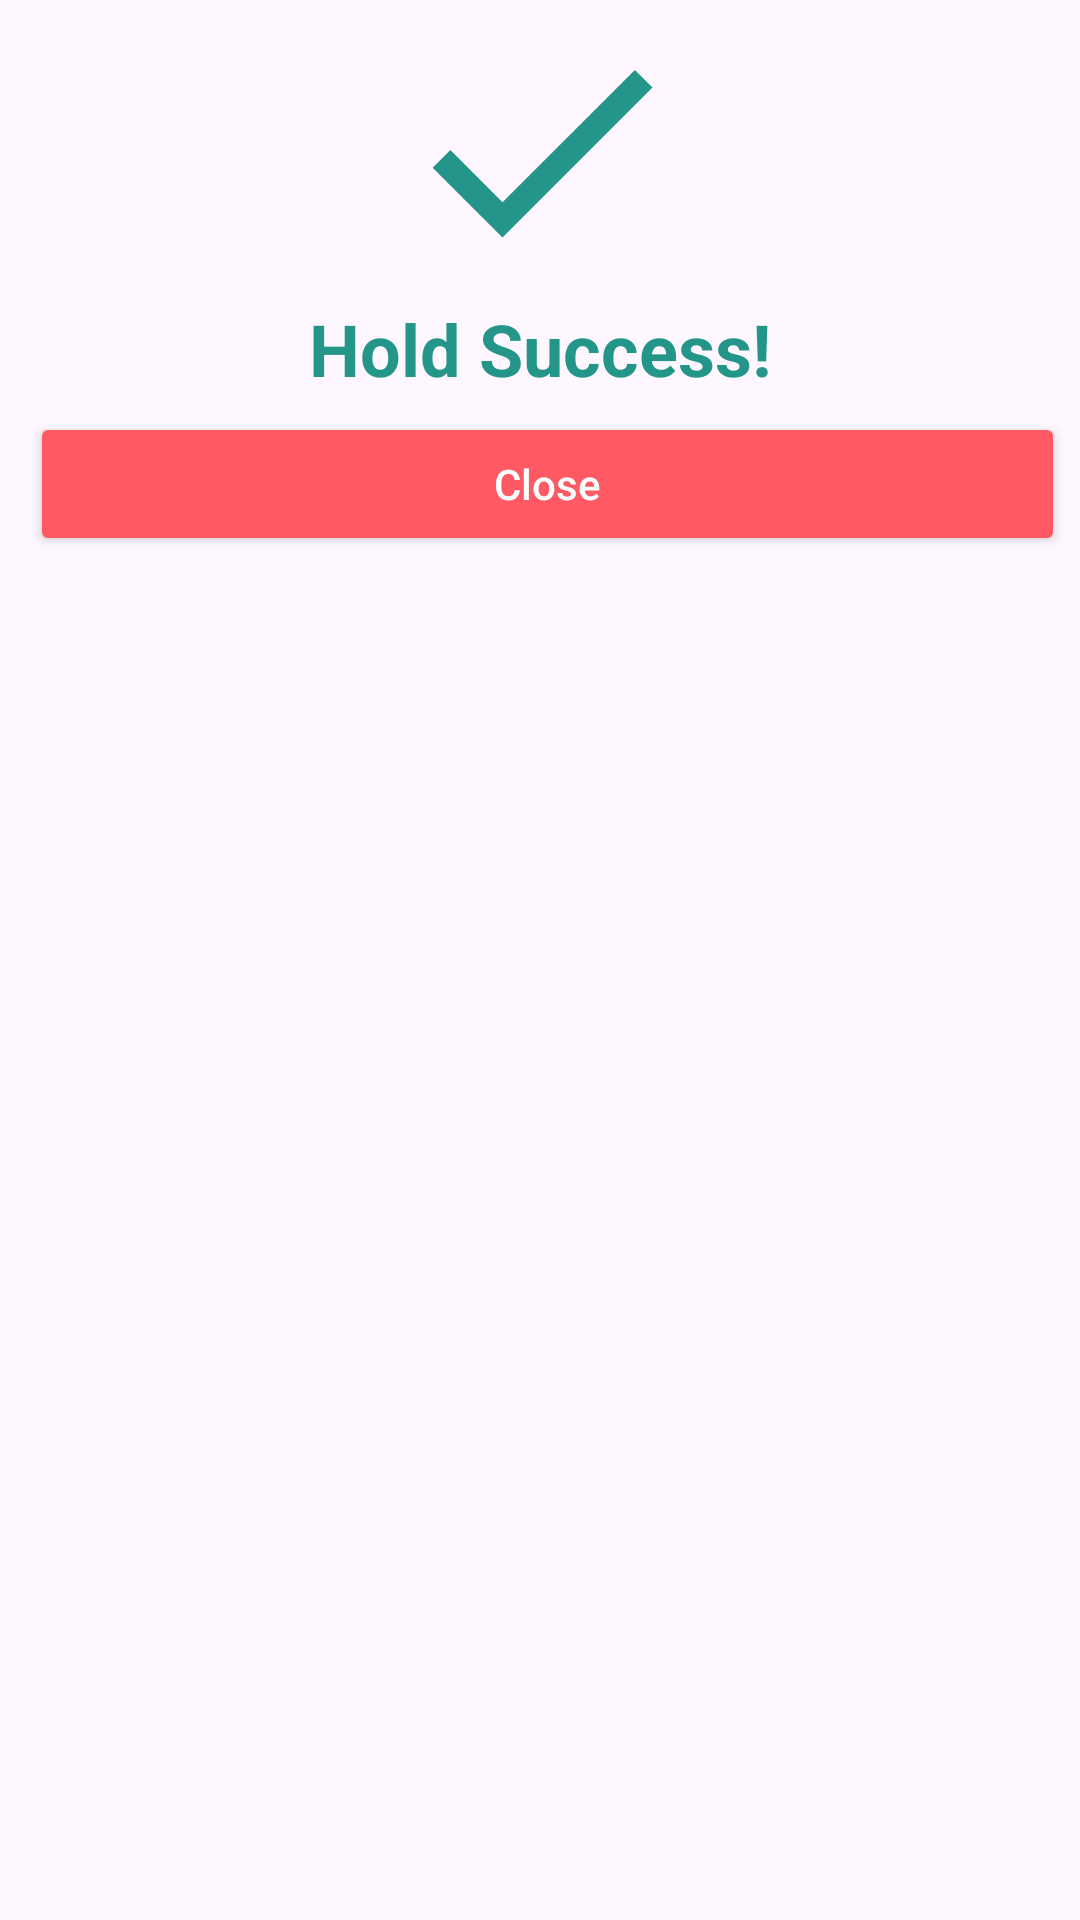

Where to tap for icons on this 1080x1920 app screen, as point (x, y):
check: point (542, 154)
